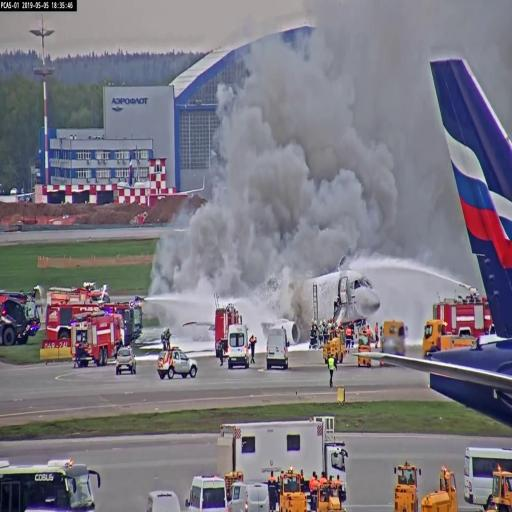smoke: (318, 6, 427, 247), (239, 68, 380, 245)
